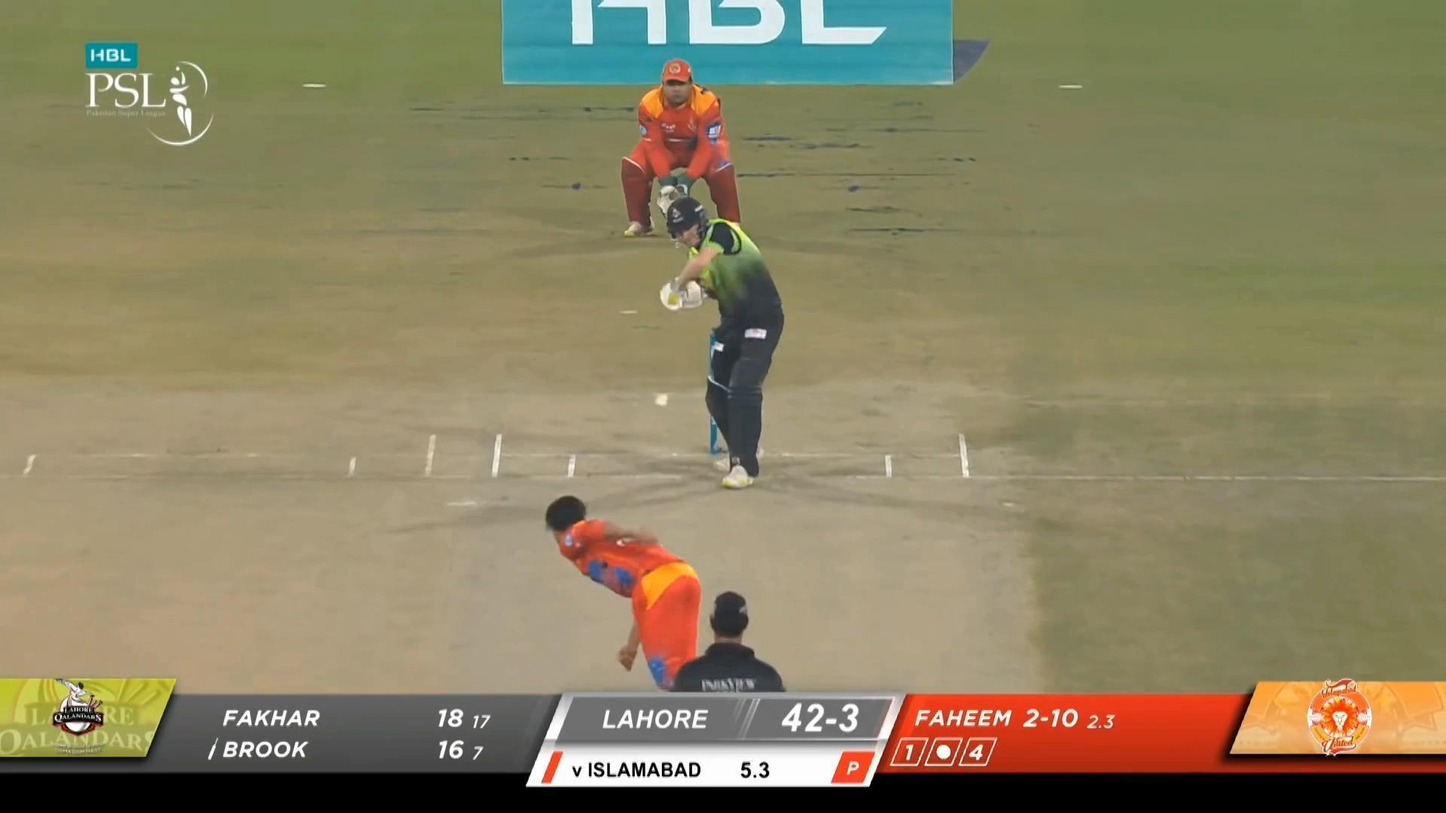BM 1: (659, 198, 786, 489)
BO: (544, 492, 731, 759)
